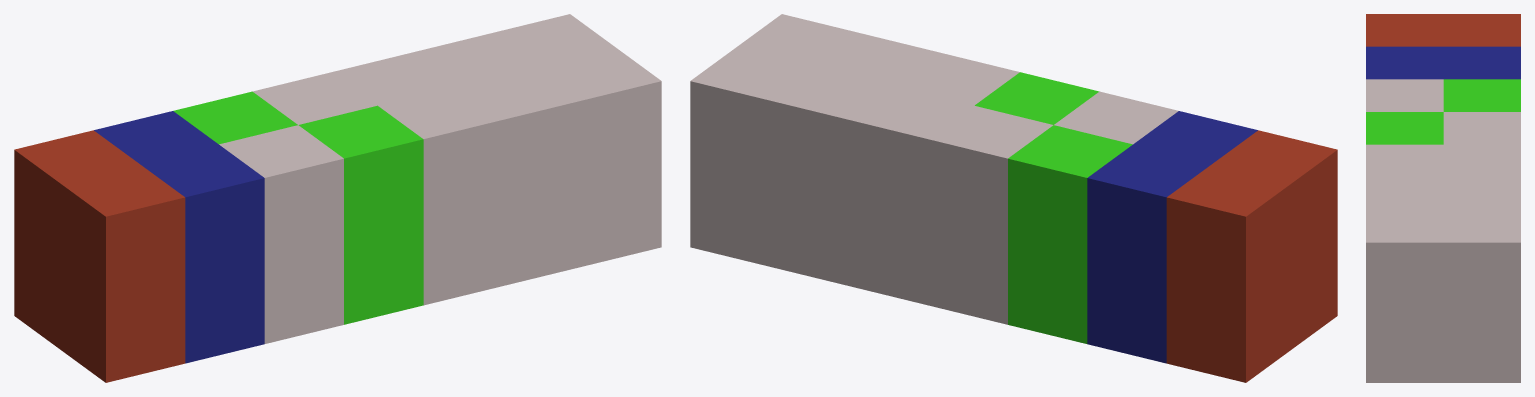
File: LeleLowerArmL.fbx
3 views of the same model, side by side, from view 1: azimuth 30°, elevation 25°; view 2: azimuth 150°, elevation 25°; view 3: azimuth 270°, elevation 25° (orthographic). The views are drawn at different scales.
Visible parts, largest first — view 1: LeleLowerArmL; view 2: LeleLowerArmL; view 3: LeleLowerArmL.
Part boxes in pixels (bbox=[...]): LeleLowerArmL: bbox=[14, 14, 661, 382]; LeleLowerArmL: bbox=[690, 14, 1337, 382]; LeleLowerArmL: bbox=[1366, 14, 1520, 382].
Bounding box in the file's own units: 70 × 20 × 20.
